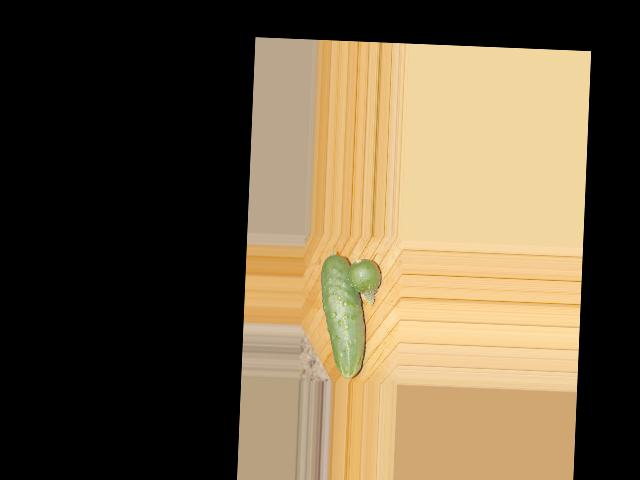cucumber: (317, 253, 369, 379)
